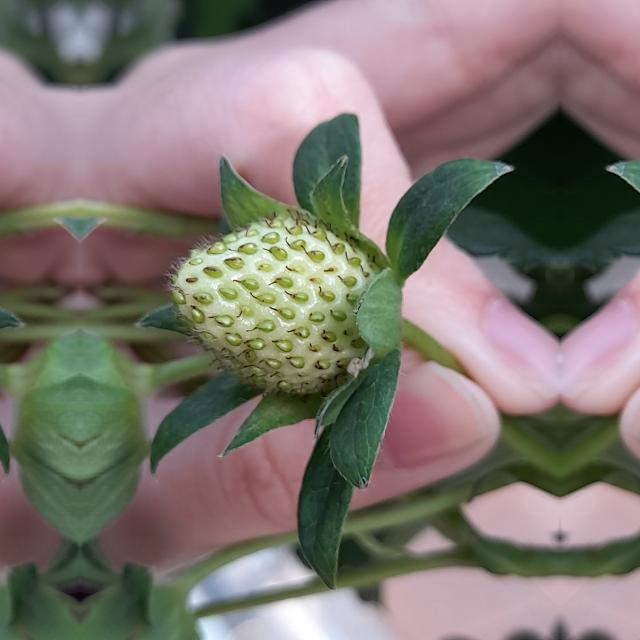Health_25: (161, 209, 385, 399)
